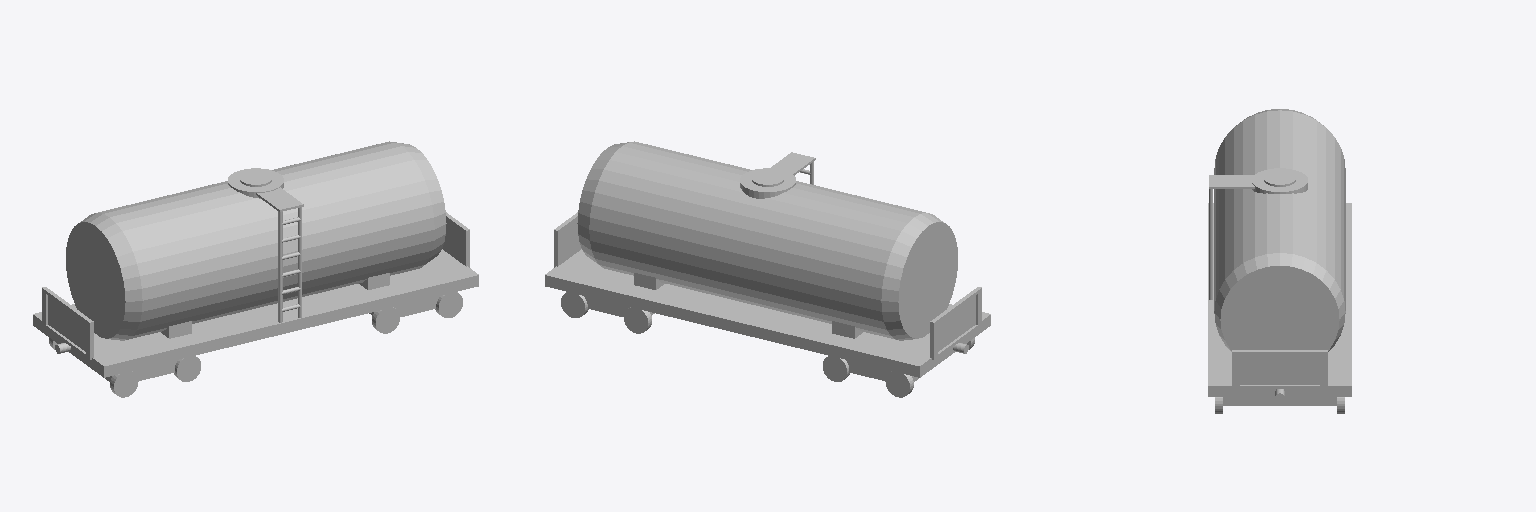
Rendered from train.obj.
The picture shows the model from 3 angles: view 1: azimuth 30°, elevation 25°; view 2: azimuth 150°, elevation 25°; view 3: azimuth 270°, elevation 25°; orthographic projection.
Parts seen in each view (by area): view 1: Cylinder, Cube, Cube.006_Cube.008, Cube.005_Cube.007, Cylinder.009, Cube.007_Cube.009, Cylinder.002, Cylinder.005, Cylinder.001, Cylinder.006, Cylinder.012_Cylinder.013; view 2: Cylinder, Cube, Cube.006_Cube.008, Cube.005_Cube.007, Cylinder.009, Cylinder.004, Cylinder.007, Cylinder.003, Cylinder.008, Cube.007_Cube.009; view 3: Cylinder, Cube, Cube.005_Cube.007, Cube.003, Cylinder.009, Cube.007_Cube.009.
Part boxes in pixels (x1,y1,x2,y2): Cylinder: (66, 141, 446, 340); Cube: (33, 249, 478, 377); Cube.006_Cube.008: (42, 287, 93, 359); Cube.005_Cube.007: (442, 212, 469, 267); Cylinder.009: (228, 168, 283, 198); Cube.007_Cube.009: (256, 187, 303, 211); Cylinder.002: (372, 307, 399, 333); Cylinder.005: (110, 371, 138, 397); Cylinder.001: (435, 292, 462, 317); Cylinder.006: (174, 356, 200, 381); Cylinder.012_Cylinder.013: (278, 211, 282, 322); Cylinder: (577, 141, 957, 340); Cube: (545, 249, 990, 377); Cube.006_Cube.008: (930, 287, 981, 359); Cube.005_Cube.007: (554, 212, 581, 267); Cylinder.009: (740, 168, 795, 198); Cylinder.004: (624, 307, 651, 333); Cylinder.007: (885, 371, 913, 397); Cylinder.003: (561, 292, 588, 317); Cylinder.008: (823, 356, 849, 381); Cube.007_Cube.009: (771, 152, 815, 175); Cylinder: (1214, 109, 1345, 351); Cube: (1208, 203, 1351, 396); Cube.005_Cube.007: (1232, 350, 1327, 388); Cube.003: (1223, 397, 1336, 405); Cylinder.009: (1252, 168, 1307, 193); Cube.007_Cube.009: (1209, 175, 1254, 188).
Size of the model in its own units: 11.98 by 4.49 by 3.75.